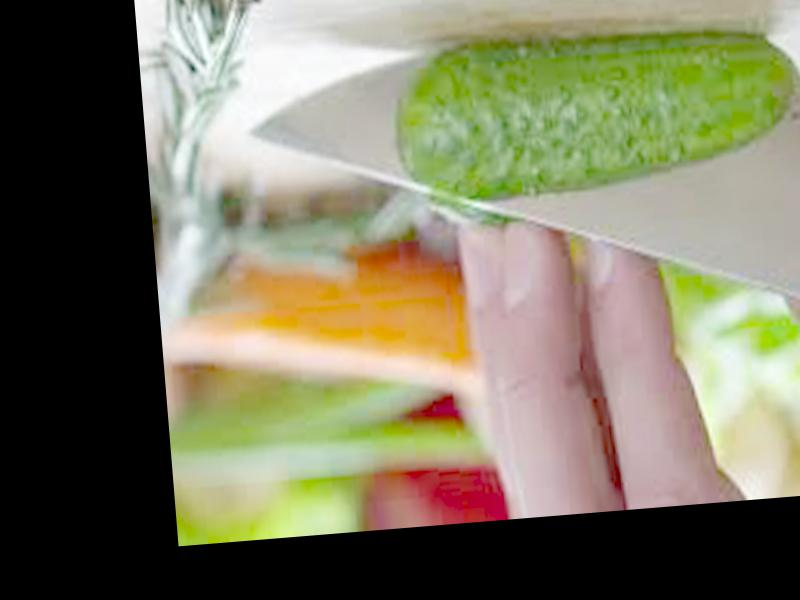Cucumber: (387, 12, 800, 208)
